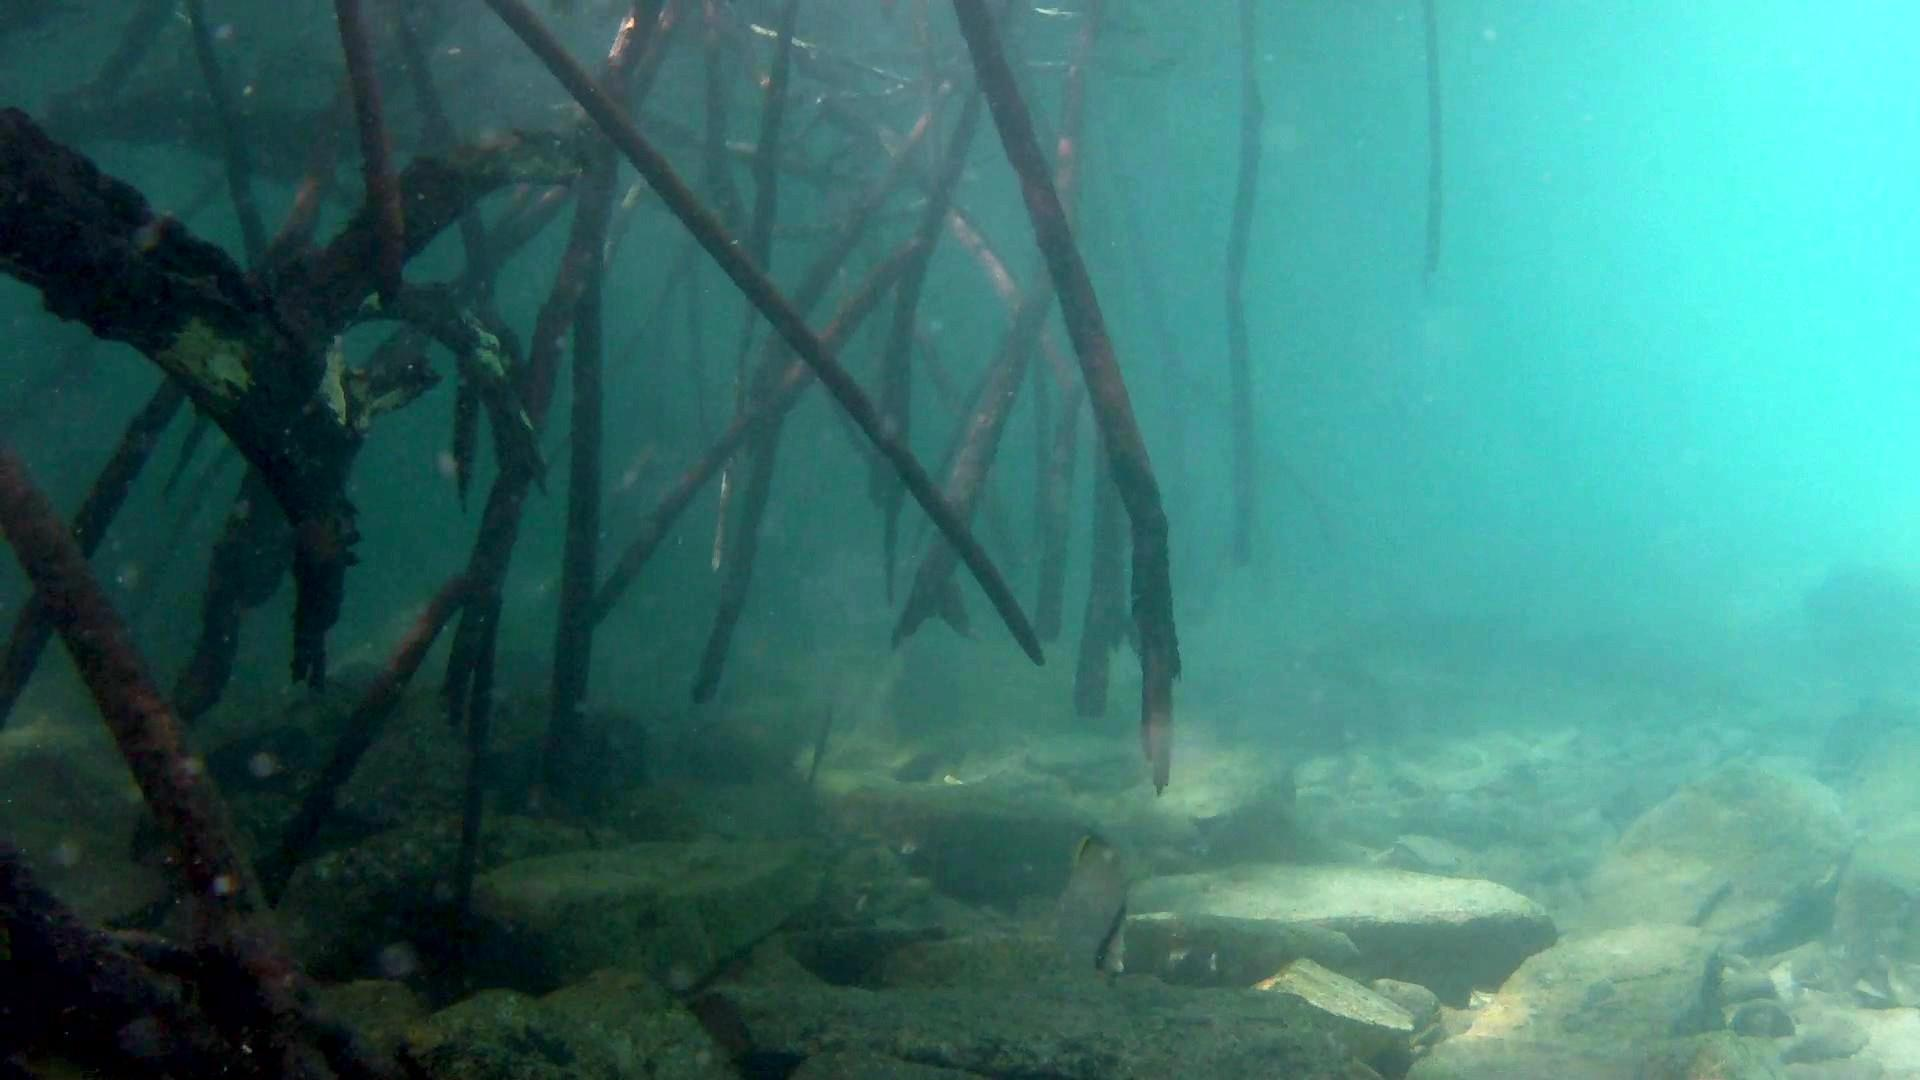chaetodon vagabundus: (1054, 831, 1133, 981)
